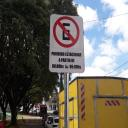NoEstacionar: (52, 15, 82, 50)
